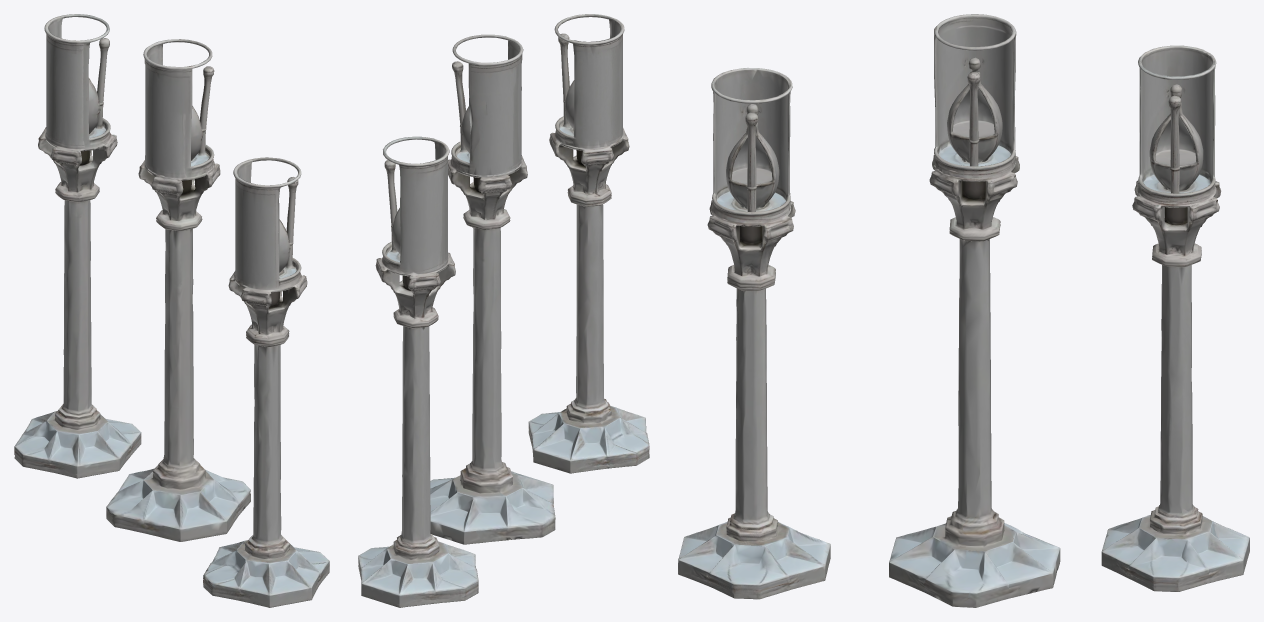
The model's file is decor-candleholder-crystal-a.glb.
3 renders of one model, left to right at view 1: azimuth 30°, elevation 25°; view 2: azimuth 150°, elevation 25°; view 3: azimuth 270°, elevation 25°, orthographic. The views are drawn at different scales.
Visible parts, largest first — view 1: tripo_node_2e18946f-befd-4ddc-a39c-3019f9cc9145; view 2: tripo_node_2e18946f-befd-4ddc-a39c-3019f9cc9145; view 3: tripo_node_2e18946f-befd-4ddc-a39c-3019f9cc9145.
Part boxes in pixels (box(x1,y1,x2,y2)): tripo_node_2e18946f-befd-4ddc-a39c-3019f9cc9145: box(14, 14, 329, 607); tripo_node_2e18946f-befd-4ddc-a39c-3019f9cc9145: box(358, 14, 649, 607); tripo_node_2e18946f-befd-4ddc-a39c-3019f9cc9145: box(678, 14, 1249, 607).
Bounding box in the file's own units: 0.0951 × 0.3 × 0.2878.
Materials: 1 (1 with a texture image).
